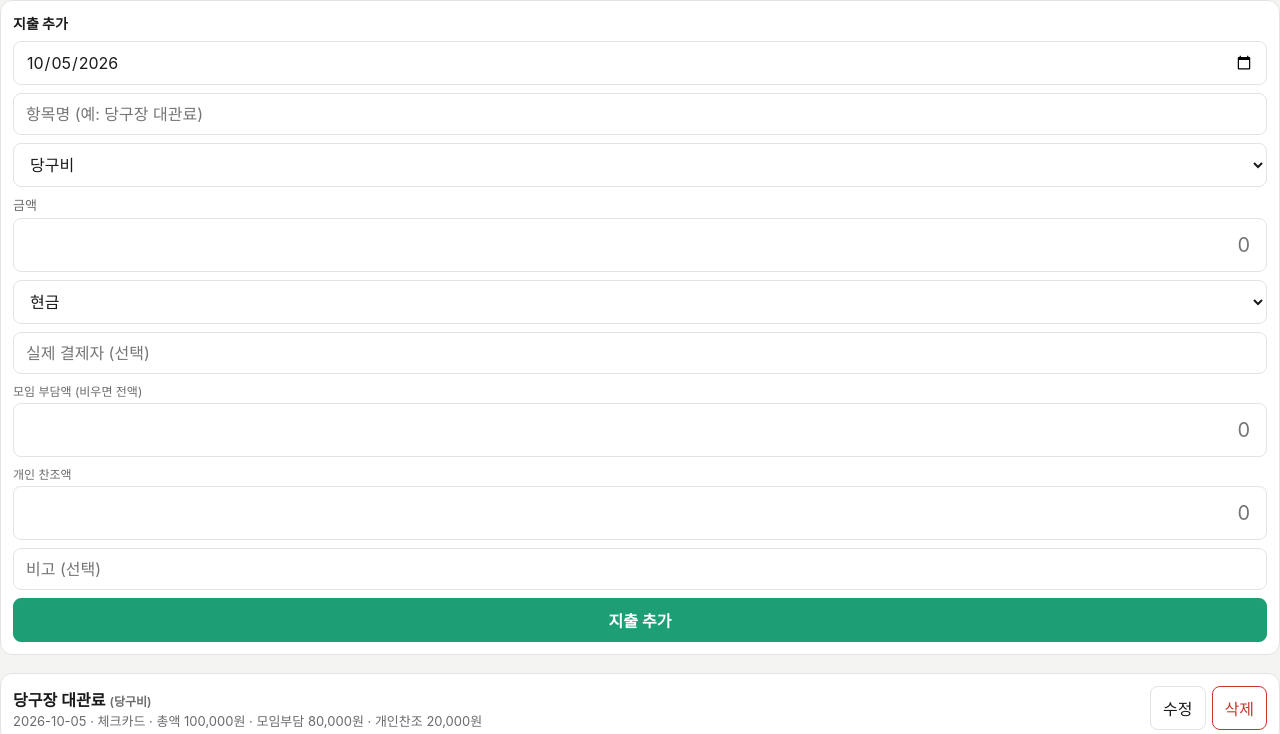
Test: 지출 "수정" — 기존 값이 수정 폼에 채워진다 › 1. 날짜·항목명·분류·금액·결제수단·결제자·모임부담액·개인찬조액·비고가 정확히 채워진다
Click the button "수정" in the row of "· 개인찬조 20,000원" at point(1178, 708), box 1150,686 -> 1206,730
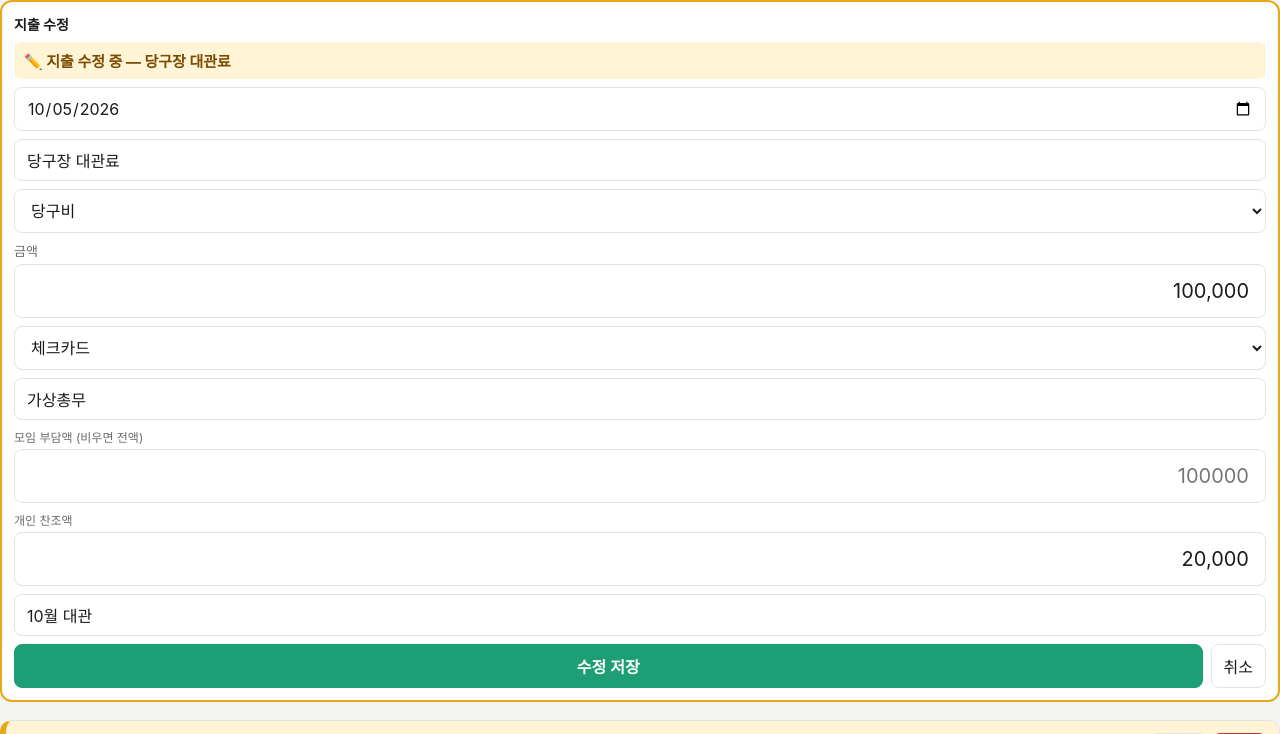
Expected: the field named "금액" holds "100,000", 14,264 -> 1266,318
Expected: the 2nd field showing "가상총무" is shown, 14,378 -> 1266,420
Expected: the field named "개인 찬조액" holds "20,000", 14,532 -> 1266,586
